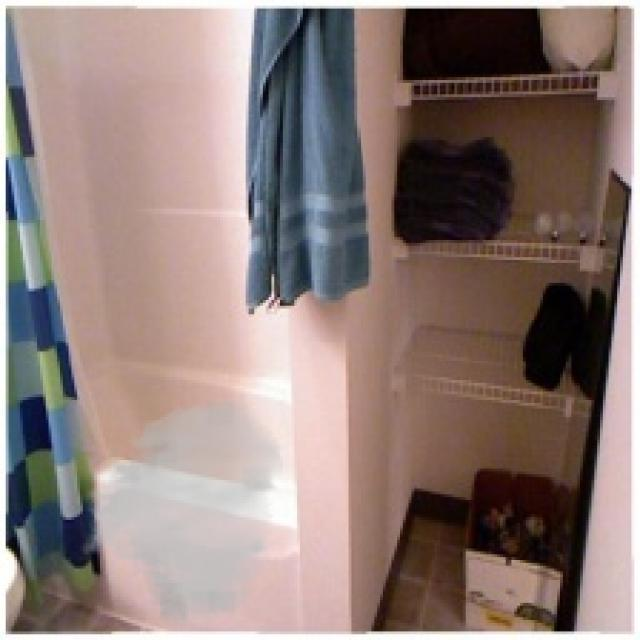Smoke: (80, 394, 286, 629)
